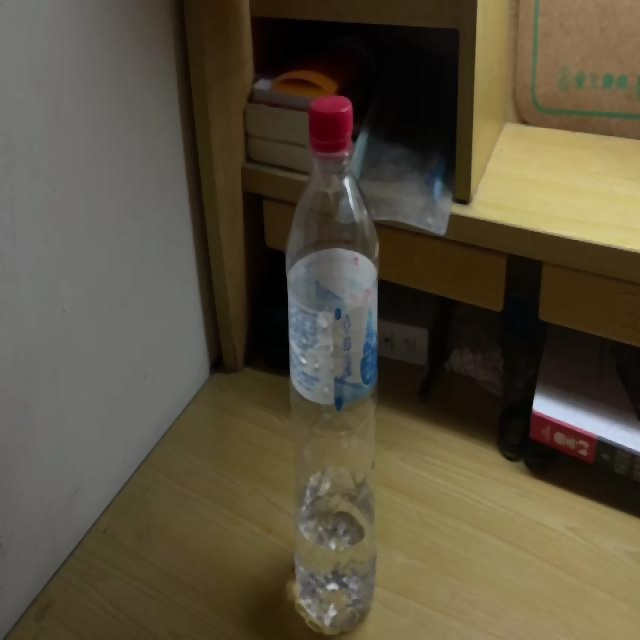Water: (286, 93, 379, 640)
